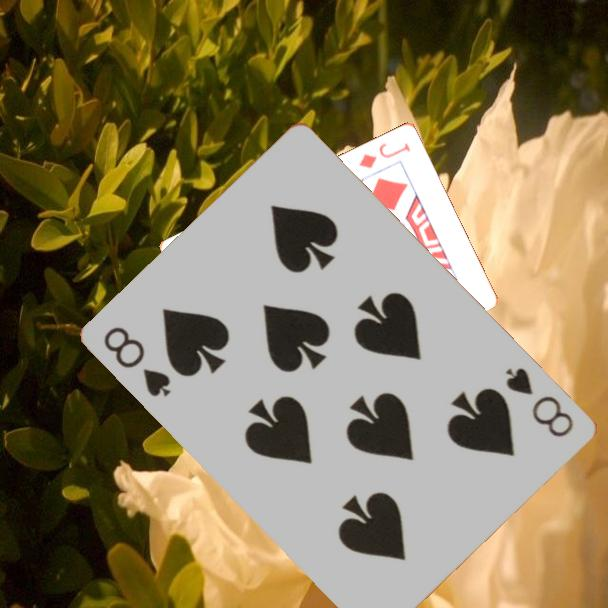d11: (355, 139, 414, 171)
s08: (502, 363, 577, 441), (100, 322, 175, 400)
